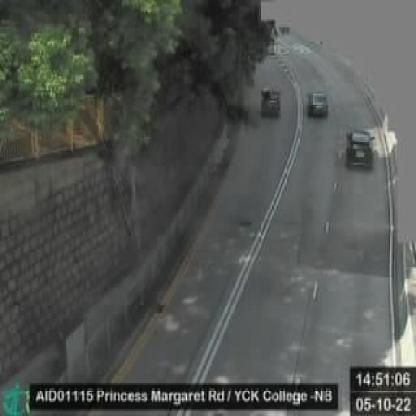Car: (345, 126, 373, 172), (257, 87, 281, 123), (306, 90, 327, 118)
